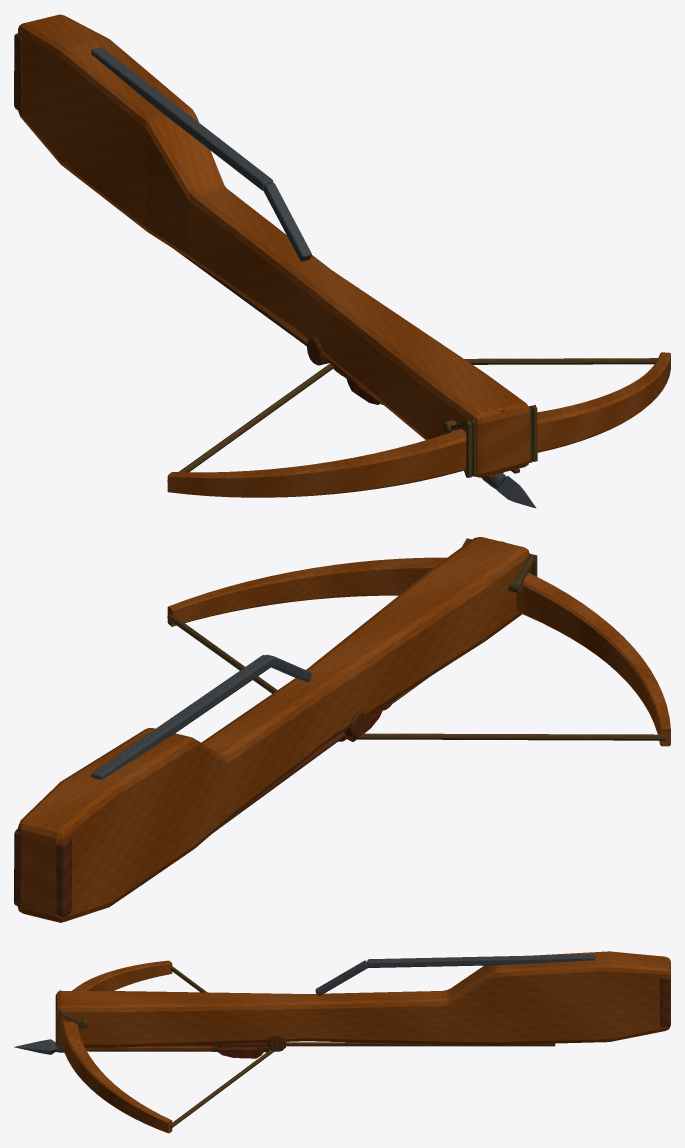
The model's file is AuxiliaImprovisedCrossbowCocked.fbx.
The picture shows the model from 3 angles, top to bottom: view 1: azimuth 30°, elevation 25°; view 2: azimuth 150°, elevation 25°; view 3: azimuth 270°, elevation 25°; orthographic projection. The views are drawn at different scales.
Visible parts, largest first — view 1: AuxiliaImprovisedCrossbowCocked_GameExport; view 2: AuxiliaImprovisedCrossbowCocked_GameExport; view 3: AuxiliaImprovisedCrossbowCocked_GameExport.
Boxes of the visible parts, x1,y1,x2,y2 form: AuxiliaImprovisedCrossbowCocked_GameExport: [14, 14, 670, 508]; AuxiliaImprovisedCrossbowCocked_GameExport: [14, 537, 670, 922]; AuxiliaImprovisedCrossbowCocked_GameExport: [14, 951, 670, 1133].
Size of the model in its own units: 21.26 by 36.4 by 6.28.
